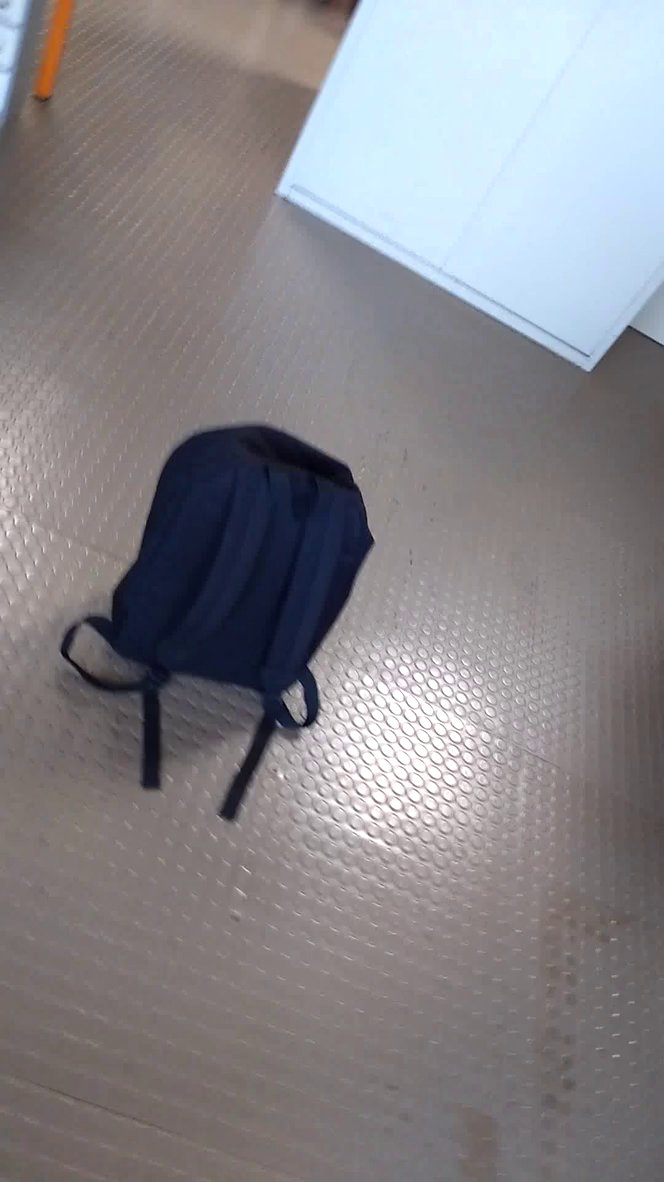bag: (51, 416, 381, 836)
